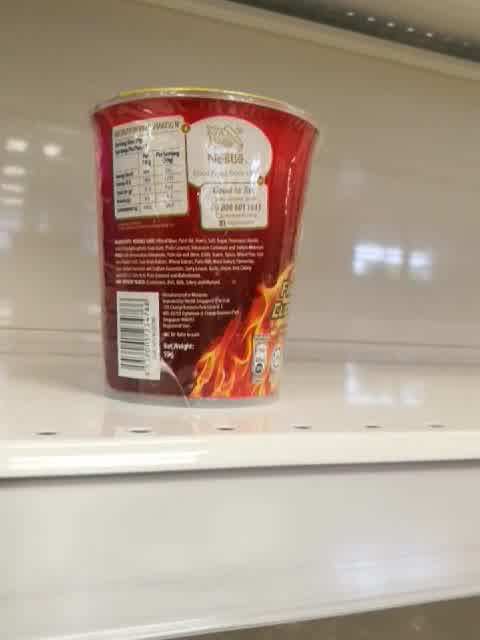maggi: (87, 85, 320, 411)
